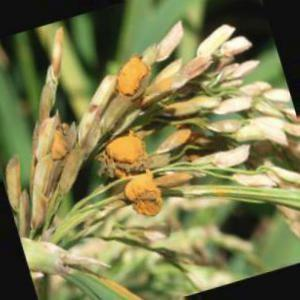Leaf_Scald: (109, 133, 166, 217), (41, 116, 75, 178), (118, 53, 144, 102), (166, 122, 196, 154), (161, 167, 196, 193)
